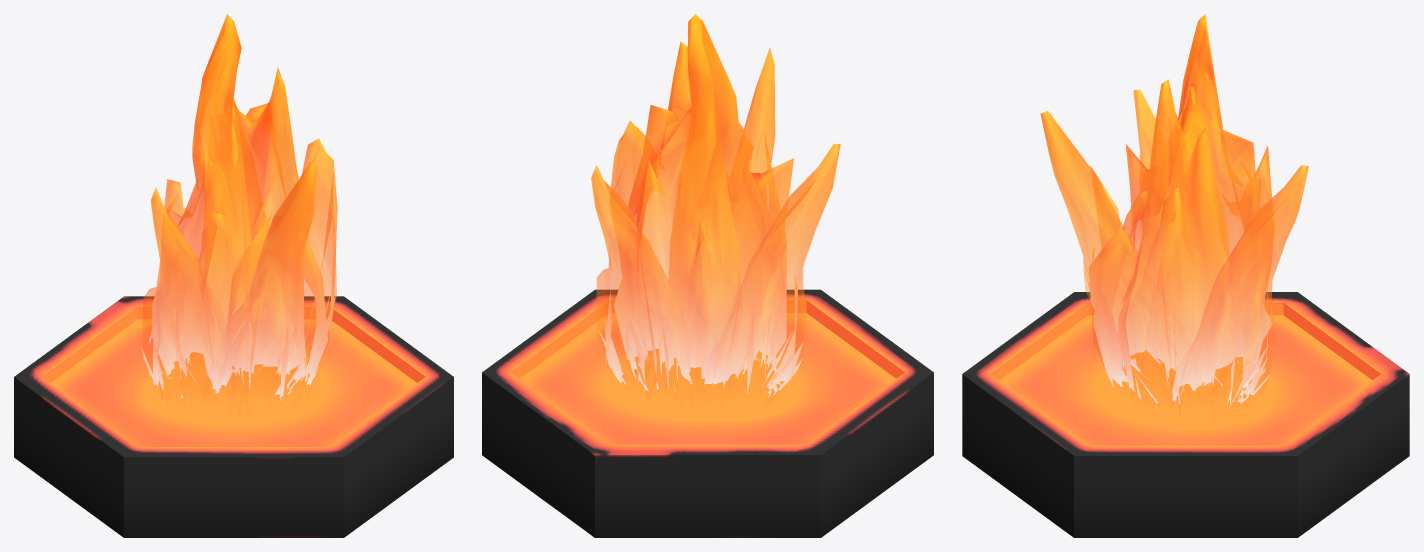
The model's file is chimenea.glb.
3 renders of one model, left to right at view 1: azimuth 30°, elevation 25°; view 2: azimuth 150°, elevation 25°; view 3: azimuth 270°, elevation 25°, orthographic. The views are drawn at different scales.
Visible parts, largest first — view 1: Fire+002; view 2: Fire+002; view 3: Fire+002.
Part boxes in pixels (x1,y1,x2,y2): Fire+002: (14, 14, 453, 537); Fire+002: (482, 14, 933, 537); Fire+002: (962, 14, 1409, 537).
Size of the model in its own units: 82.61 by 104 by 95.39.
Materials: 1 (1 with a texture image).
